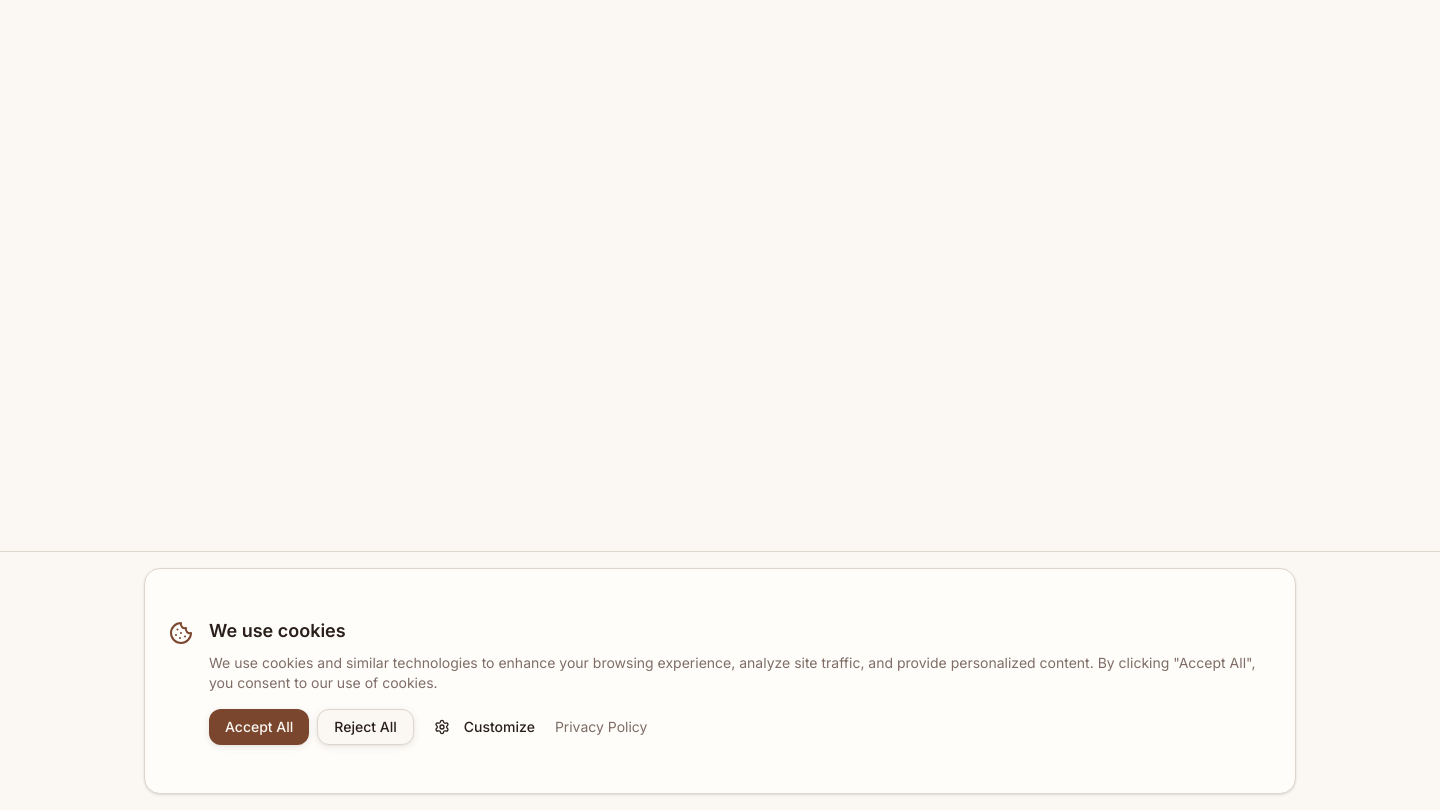
Scenario: CookieConsentBanner › opens settings dialog when Customize is clicked
Expected: the heading "We use cookies" is shown, [209,620,346,641]
Click the button "Customize": (484,727) [422,709,547,745]
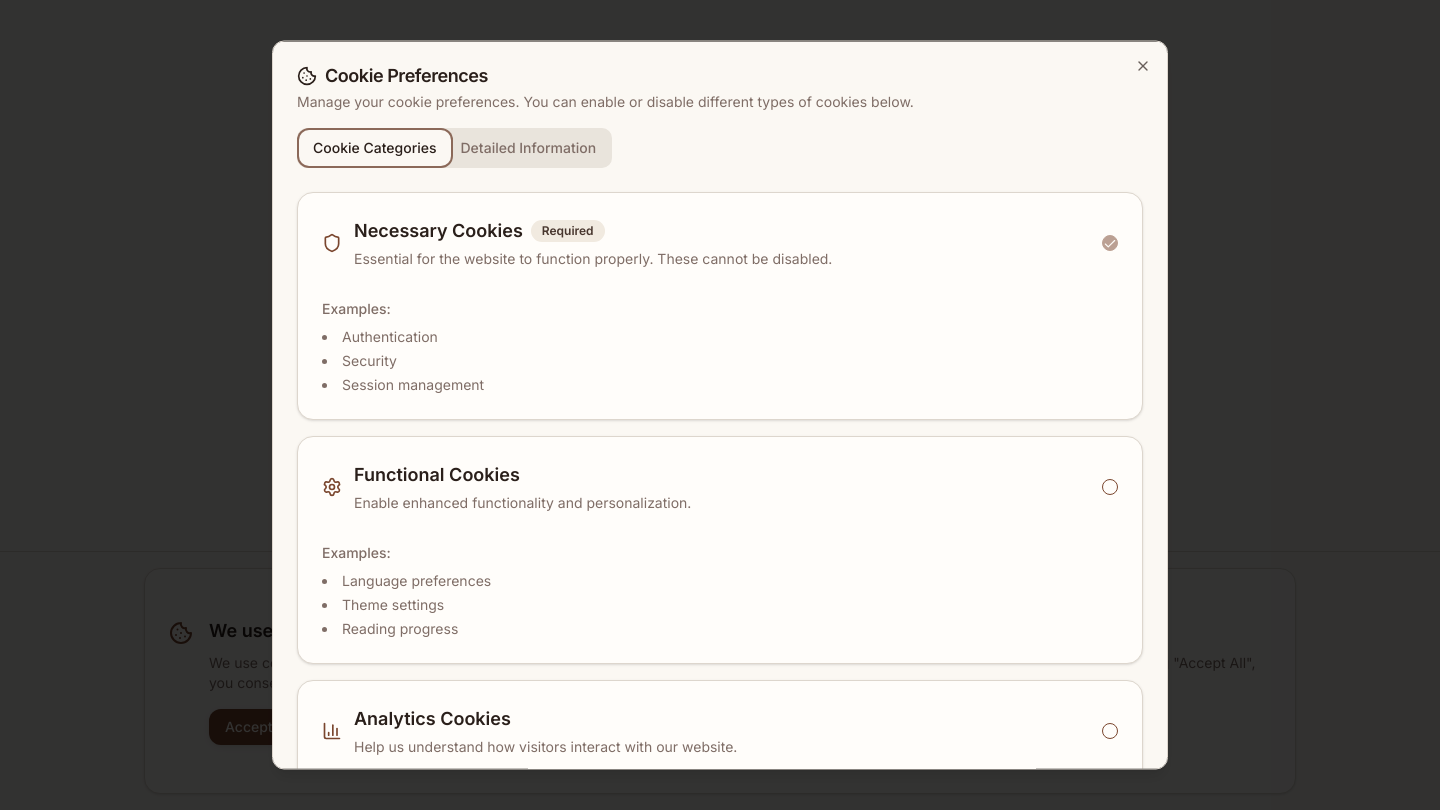
Expected: the text "Cookie Preferences" is shown, [325,66,488,84]
Expected: the text "Necessary Cookies" is shown, [354,216,523,244]
Expected: the text "Analytics Cookies" is shown, [354,704,511,732]
